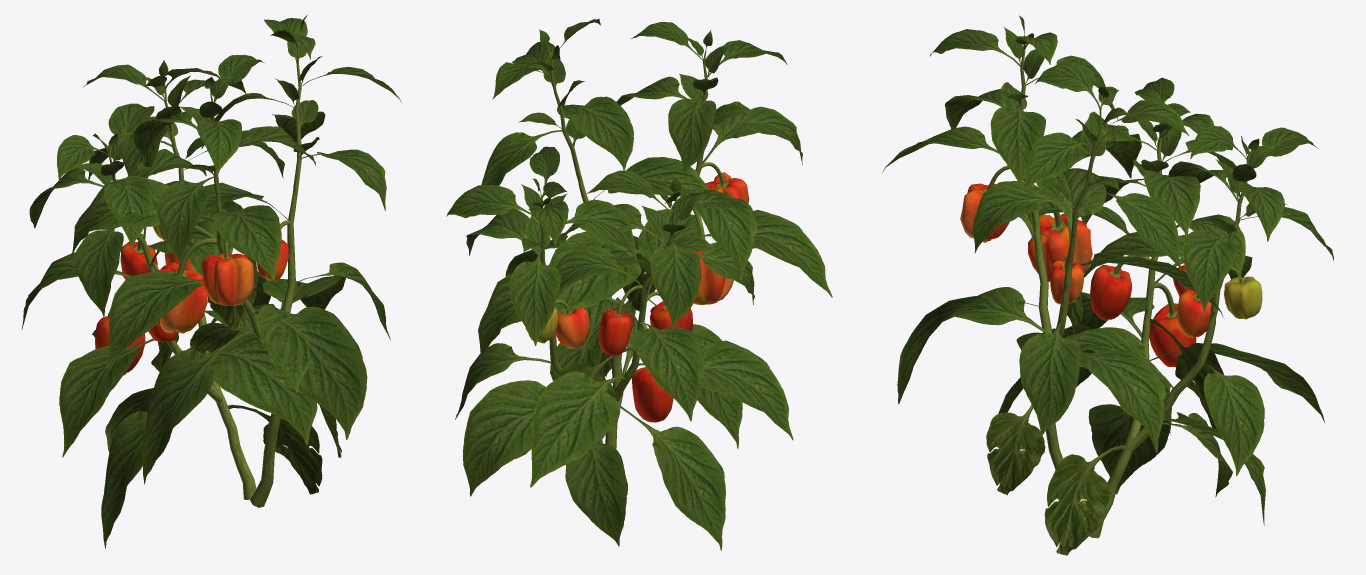
Rendered from pepper7_old.dae.
The picture shows the model from 3 angles, left to right: view 1: azimuth 30°, elevation 25°; view 2: azimuth 150°, elevation 25°; view 3: azimuth 270°, elevation 25°; orthographic projection. The views are drawn at different scales.
Parts seen in each view (by area): view 1: pepper_7_leaf2, pepper_7_branch, pepper_7_fru2, pepper_7_leaf1, pepper_7_fru3; view 2: pepper_7_leaf2, pepper_7_branch, pepper_7_fru3, pepper_7_fru2, pepper_7_leaf1; view 3: pepper_7_leaf2, pepper_7_leaf1, pepper_7_branch, pepper_7_fru2, pepper_7_fru3, pepper_7_fru1.
Boxes of the visible parts, x1=… form: pepper_7_leaf2: x1=21, y1=15, x2=401, y2=548; pepper_7_branch: x1=109, y1=30, x2=301, y2=507; pepper_7_fru2: x1=155, y1=239, x2=288, y2=333; pepper_7_leaf1: x1=151, y1=255, x2=341, y2=494; pepper_7_fru3: x1=95, y1=240, x2=177, y2=375; pepper_7_leaf2: x1=446, y1=18, x2=832, y2=550; pepper_7_branch: x1=539, y1=44, x2=729, y2=448; pepper_7_fru3: x1=598, y1=301, x2=692, y2=422; pepper_7_fru2: x1=556, y1=172, x2=749, y2=348; pepper_7_leaf1: x1=557, y1=235, x2=655, y2=398; pepper_7_leaf2: x1=882, y1=15, x2=1333, y2=525; pepper_7_leaf1: x1=986, y1=232, x2=1223, y2=555; pepper_7_branch: x1=982, y1=30, x2=1250, y2=538; pepper_7_fru2: x1=960, y1=183, x2=1212, y2=338; pepper_7_fru3: x1=1090, y1=264, x2=1196, y2=366; pepper_7_fru1: x1=1223, y1=276, x2=1262, y2=319.
Size of the model in its own units: 0.5219 by 0.6334 by 0.7645.
